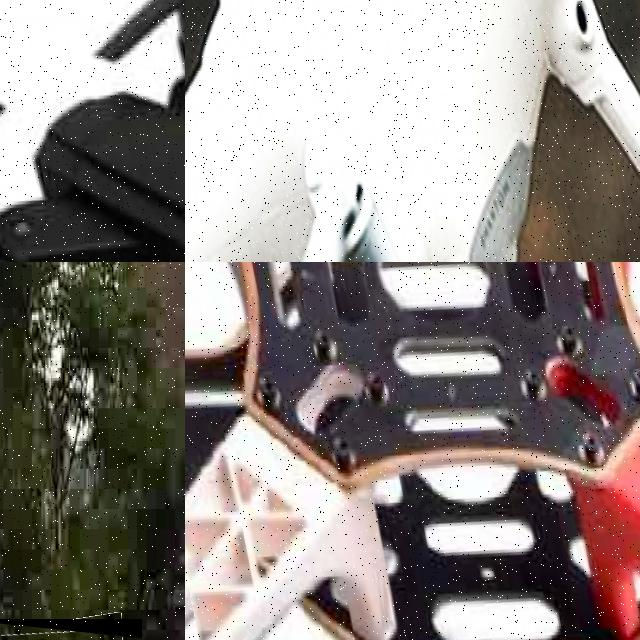drone: (185, 262, 640, 640), (185, 0, 640, 262), (0, 0, 185, 262)
